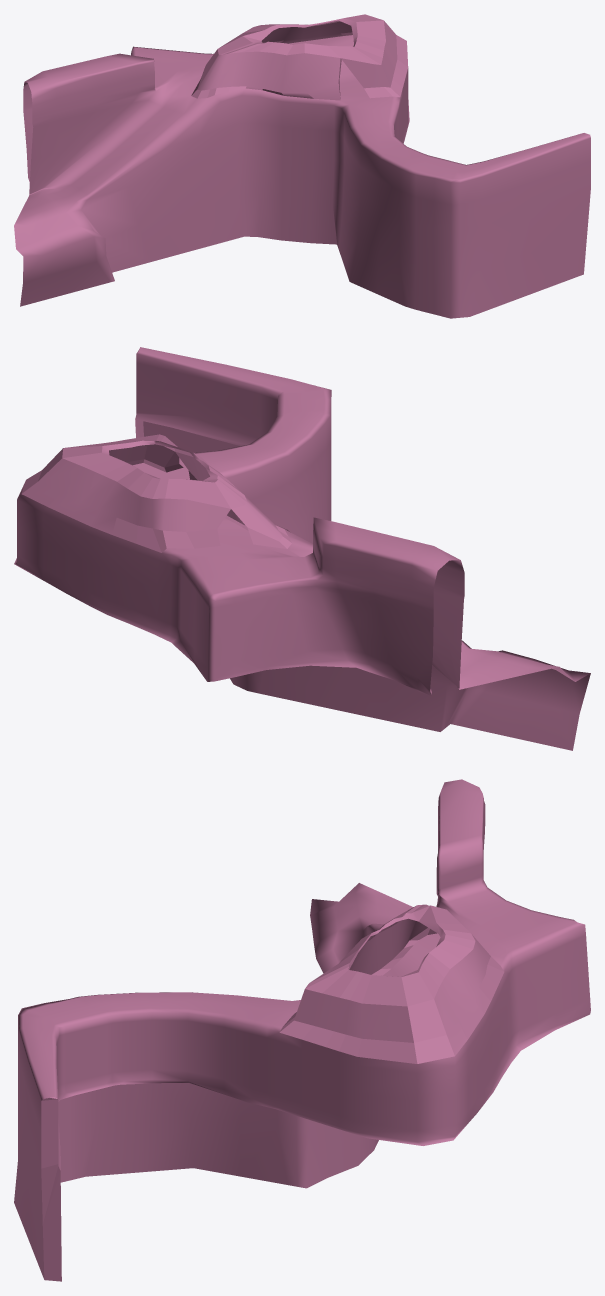
File: terrain_W3A2.fbx
3 renders of one model, top to bottom at view 1: azimuth 30°, elevation 25°; view 2: azimuth 150°, elevation 25°; view 3: azimuth 270°, elevation 25°, orthographic. The views are drawn at different scales.
Parts seen in each view (by area): view 1: W3A2_mesh; view 2: W3A2_mesh; view 3: W3A2_mesh.
Boxes of the visible parts, bbox=[...] form: W3A2_mesh: bbox=[14, 14, 590, 318]; W3A2_mesh: bbox=[14, 347, 590, 750]; W3A2_mesh: bbox=[14, 779, 590, 1281].
Bounding box in the file's own units: 43237 × 16570 × 34288.
